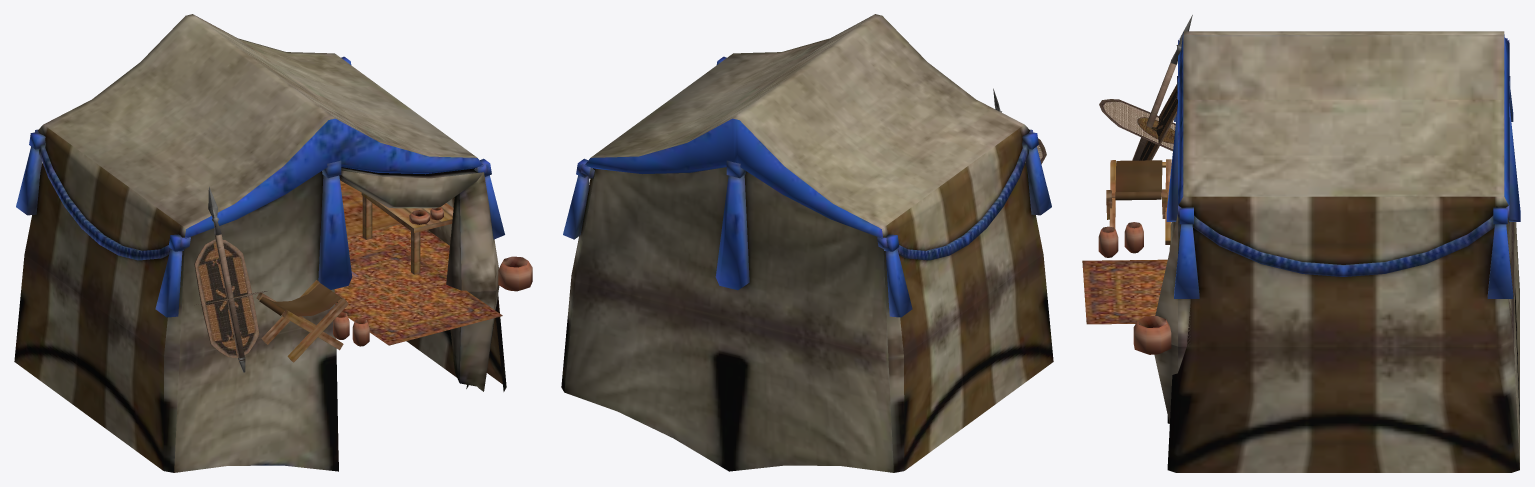
File: structures-tent-kush.glb
The picture shows the model from 3 angles, left to right: view 1: azimuth 30°, elevation 25°; view 2: azimuth 150°, elevation 25°; view 3: azimuth 270°, elevation 25°; orthographic projection. The views are drawn at different scales.
Visible parts, largest first — view 1: Cube.000, Cube.037, Circle.003; view 2: Cube.000; view 3: Cube.000, Cube.037, Circle_003, Circle.003.
Part boxes in pixels (box(x1,y1,x2,y2)): Cube.000: box(14, 14, 532, 472); Cube.037: box(208, 180, 502, 372); Circle.003: box(194, 239, 259, 357); Cube.000: box(561, 14, 1053, 472); Cube.000: box(1098, 31, 1520, 472); Cube.037: box(1082, 15, 1192, 324); Circle_003: box(1099, 99, 1175, 151); Circle.003: box(1139, 84, 1177, 160).
Bounding box in the file's own units: 3.42 × 3.2 × 3.25.
4 materials, 4 textured.
